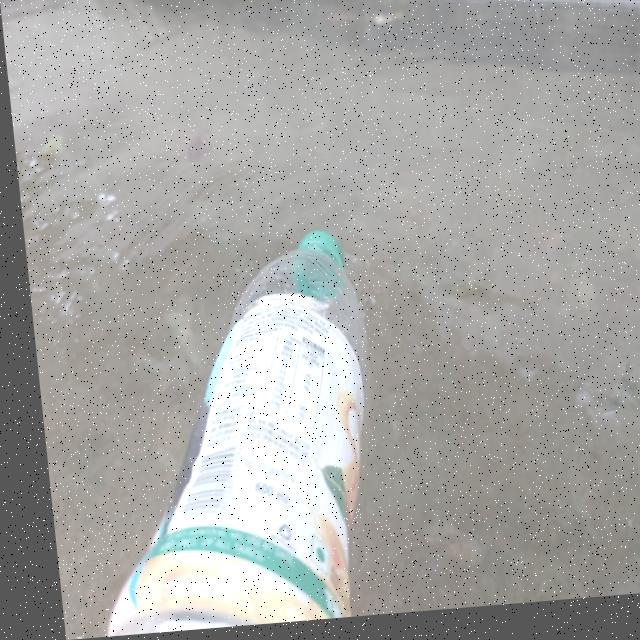leaf: (316, 1, 435, 58), (143, 118, 232, 182), (33, 122, 81, 167)
waterbottle: (56, 212, 414, 638)
